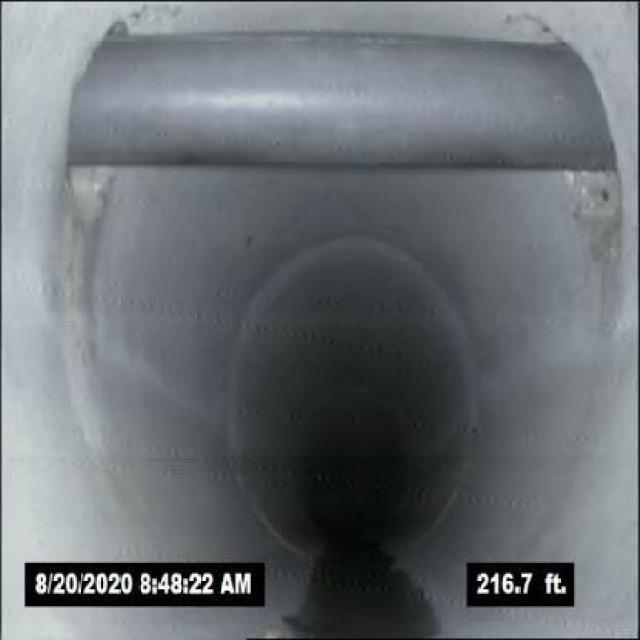Utility intrusion: (40, 9, 631, 180)
